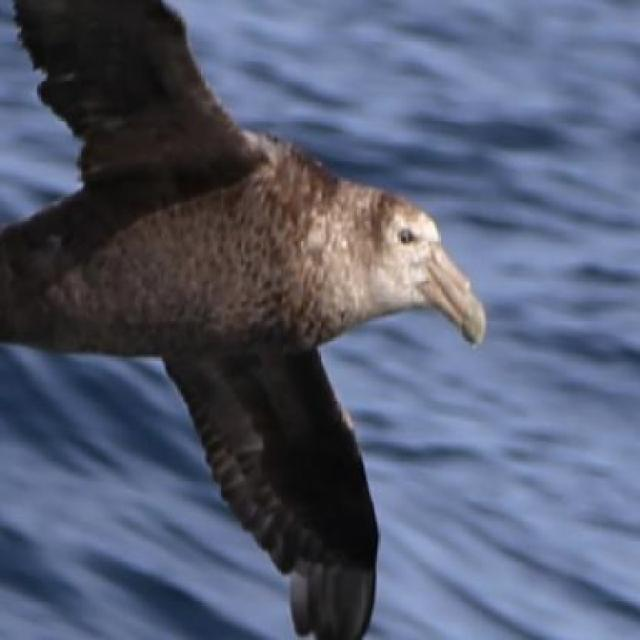Eagle: (0, 0, 493, 640)
